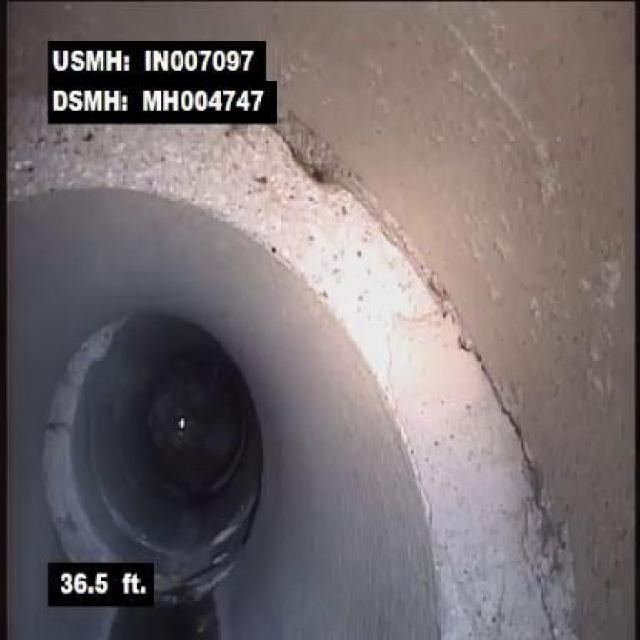Joint offset: (97, 129, 461, 314), (380, 396, 625, 638)
